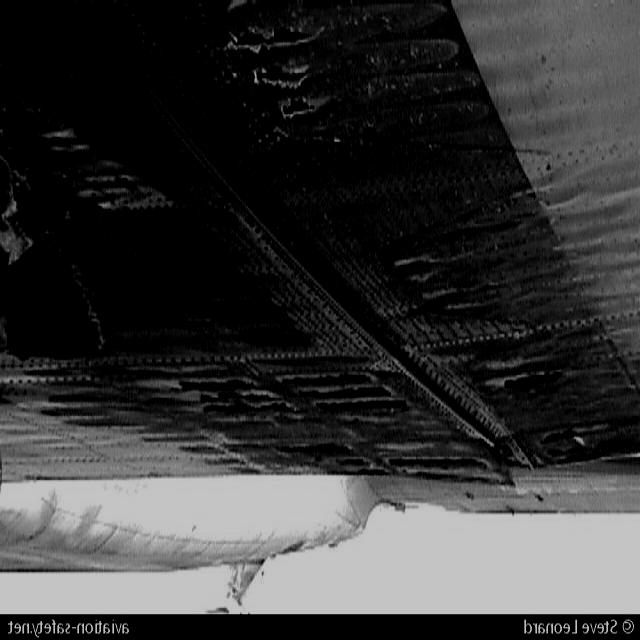crack: (226, 20, 337, 128)
